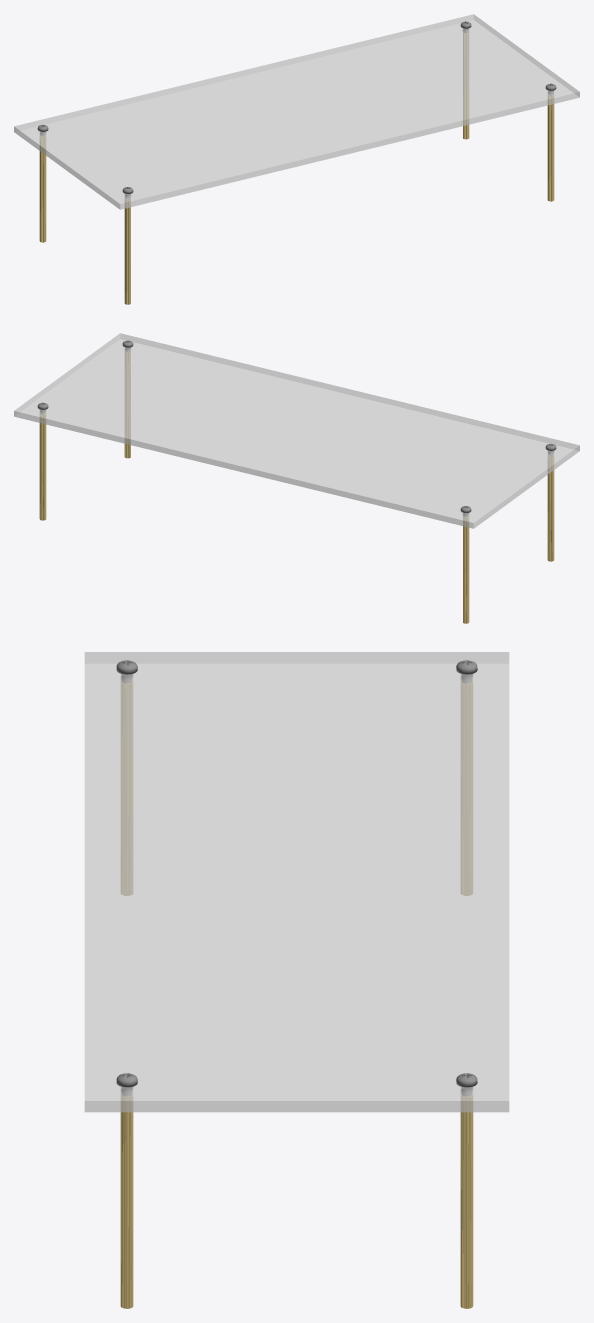
The picture shows the model from 3 angles, top to bottom: view 1: azimuth 30°, elevation 25°; view 2: azimuth 150°, elevation 25°; view 3: azimuth 270°, elevation 25°; orthographic projection. The views are drawn at different scales.
Visible parts, largest first — view 1: BASE03; view 2: BASE03; view 3: BASE03.
Part boxes in pixels (x1=…): BASE03: x1=14, y1=14, x2=579, y2=304; BASE03: x1=14, y1=333, x2=579, y2=623; BASE03: x1=84, y1=652, x2=509, y2=1308.
Bounding box in the file's own units: 0.25 × 0.1 × 0.0601.
